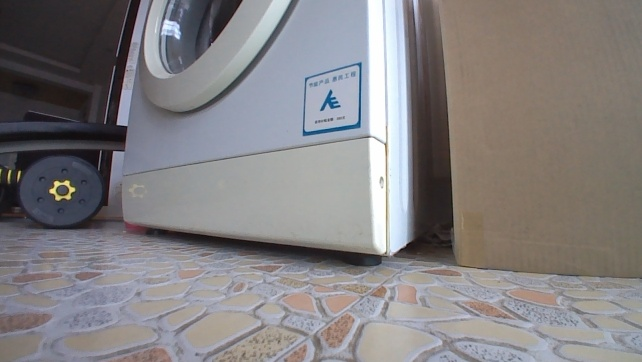washing_machine1: (119, 0, 435, 268)
